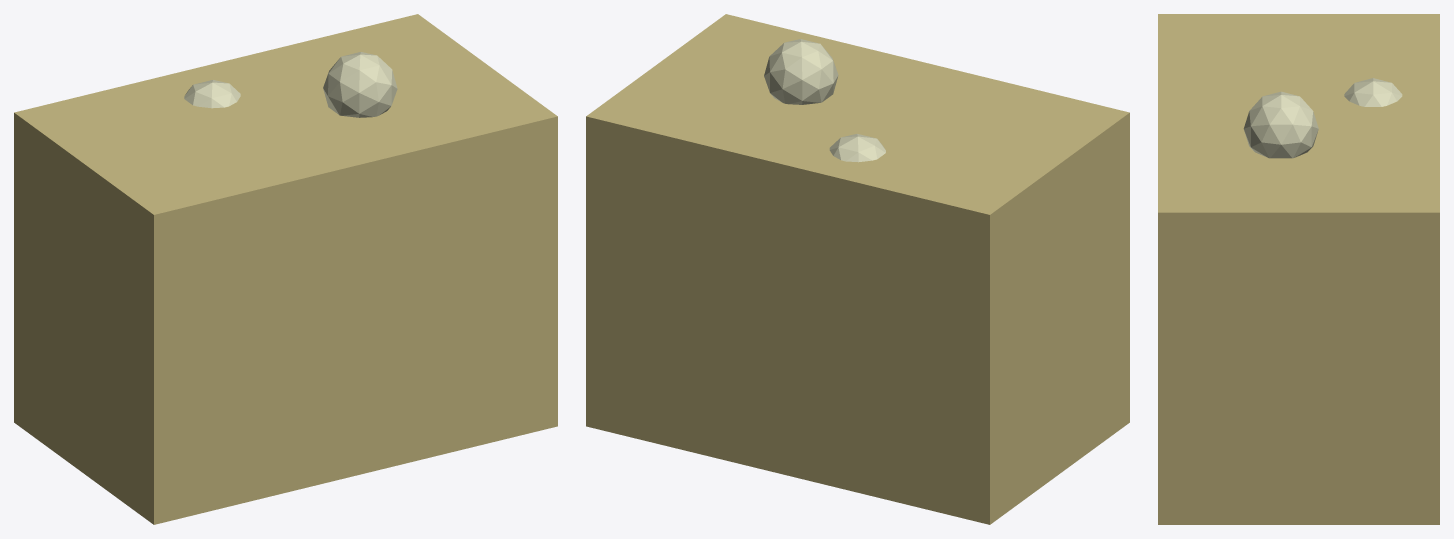
Rendered from golden_golem.glb.
The picture shows the model from 3 angles, left to right: view 1: azimuth 30°, elevation 25°; view 2: azimuth 150°, elevation 25°; view 3: azimuth 270°, elevation 25°; orthographic projection.
Visible parts, largest first — view 1: geometry_0; view 2: geometry_0; view 3: geometry_0.
Boxes of the visible parts, bbox=[...] form: geometry_0: bbox=[14, 14, 557, 524]; geometry_0: bbox=[586, 14, 1129, 524]; geometry_0: bbox=[1158, 14, 1439, 524].
Size of the model in its own units: 0.75 by 0.6393 by 0.45.
